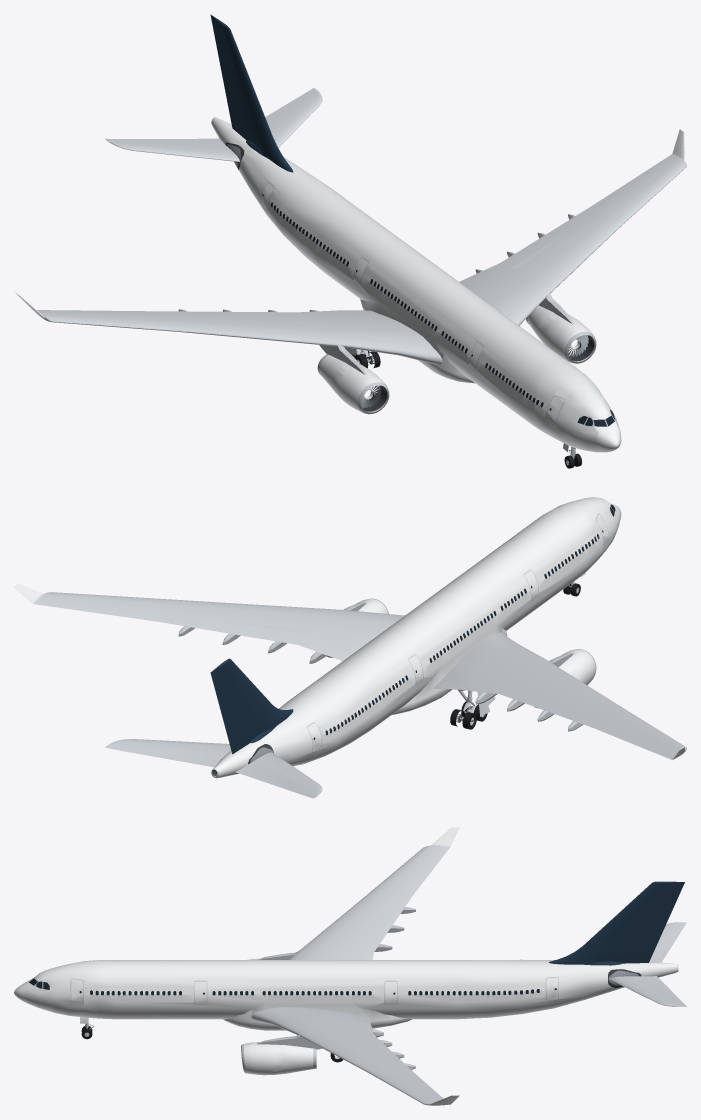
File: nuab-aircraft.glb
3 renders of one model, top to bottom at view 1: azimuth 30°, elevation 25°; view 2: azimuth 150°, elevation 25°; view 3: azimuth 270°, elevation 25°, orthographic. The views are drawn at different scales.
Visible parts, largest first — view 1: airframe, fuselage, tail_fin, gear; view 2: airframe, fuselage, tail_fin, gear; view 3: fuselage, airframe, tail_fin.
Part boxes in pixels (<box>): airframe: <box>15,88,686,452</box>; fuselage: <box>211,117,620,452</box>; tail_fin: <box>210,14,293,172</box>; gear: <box>344,347,581,468</box>; airframe: <box>14,503,686,798</box>; fuselage: <box>213,497,620,778</box>; tail_fin: <box>210,658,293,754</box>; gear: <box>434,572,585,729</box>; fuselage: <box>27,959,677,1030</box>; airframe: <box>14,827,686,1105</box>; tail_fin: <box>548,881,684,965</box>.
Bounding box in the file's own units: 9.44 × 2.55 × 10.
